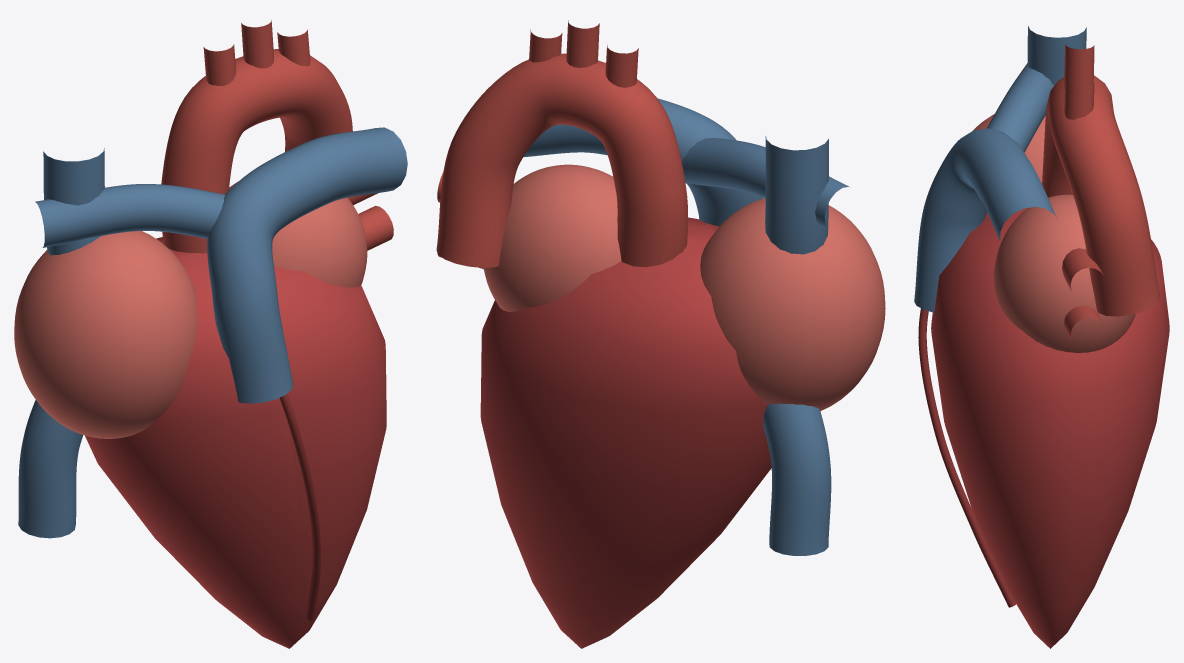
File: heart.glb
3 renders of one model, left to right at view 1: azimuth 30°, elevation 25°; view 2: azimuth 150°, elevation 25°; view 3: azimuth 270°, elevation 25°, orthographic. The views are drawn at different scales.
Visible parts, largest first — view 1: Ventricular muscle, Right atrial surface, Pulmonary trunk, Aortic arch, Pulmonary branch, Inferior vena cava, Left atrial surface, Aortic branch (×3), Superior vena cava, Surface groove, Pulmonary vein; view 2: Ventricular muscle, Aortic arch, Right atrial surface, Left atrial surface, Inferior vena cava, Superior vena cava, Pulmonary trunk, Pulmonary branch, Aortic branch (×3); view 3: Ventricular muscle, Aortic arch, Left atrial surface, Pulmonary trunk, Pulmonary branch, Surface groove, Aortic branch (×2), Superior vena cava, Pulmonary vein (×2), Right atrial surface.
Part boxes in pixels (left/top/right/bottom): Ventricular muscle: left=85, top=237, right=386, bottom=648; Right atrial surface: left=14, top=231, right=197, bottom=438; Pulmonary trunk: left=207, top=127, right=407, bottom=403; Aortic arch: left=161, top=49, right=352, bottom=253; Pulmonary branch: left=35, top=184, right=224, bottom=247; Inferior vena cava: left=18, top=400, right=83, bottom=538; Left atrial surface: left=229, top=181, right=367, bottom=287; Aortic branch (×3): left=203, top=20, right=310, bottom=85; Superior vena cava: left=43, top=148, right=104, bottom=255; Surface groove: left=279, top=394, right=321, bottom=620; Pulmonary vein: left=358, top=206, right=393, bottom=250; Ventricular muscle: left=480, top=217, right=771, bottom=648; Aortic arch: left=436, top=53, right=687, bottom=267; Right atrial surface: left=700, top=198, right=885, bottom=410; Left atrial surface: left=483, top=164, right=621, bottom=312; Inferior vena cava: left=763, top=403, right=831, bottom=555; Superior vena cava: left=765, top=136, right=828, bottom=254; Pulmonary trunk: left=523, top=98, right=763, bottom=226; Pulmonary branch: left=682, top=137, right=850, bottom=229; Aortic branch (×3): left=529, top=20, right=638, bottom=87; Ventricular muscle: left=931, top=208, right=1169, bottom=648; Aortic arch: left=1042, top=75, right=1160, bottom=316; Left atrial surface: left=993, top=194, right=1135, bottom=352; Pulmonary trunk: left=914, top=128, right=1057, bottom=312; Pulmonary branch: left=987, top=63, right=1053, bottom=152; Surface groove: left=918, top=308, right=1015, bottom=607; Aortic branch (×2): left=1064, top=47, right=1094, bottom=119; Superior vena cava: left=1027, top=26, right=1086, bottom=85; Pulmonary vein (×2): left=1062, top=248, right=1104, bottom=341; Right atrial surface: left=973, top=114, right=1045, bottom=183.
Size of the model in its own units: 2.47 by 3.8 by 1.48.
